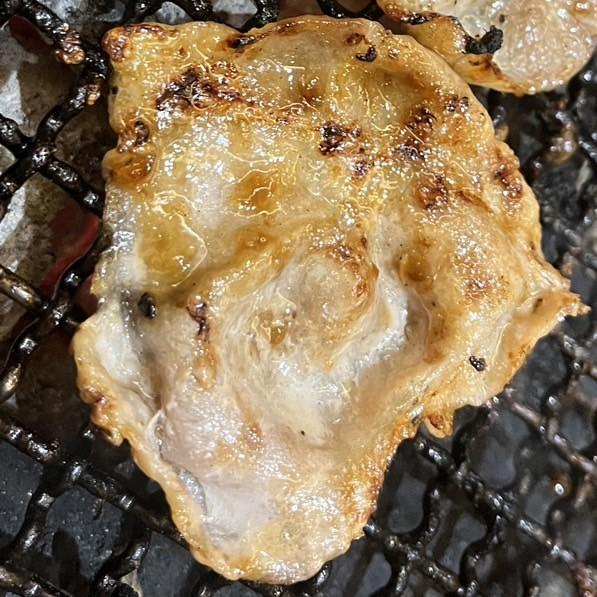Overcooked: (72, 15, 587, 583), (378, 0, 596, 95)
